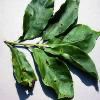Tomato leaf bacterial spot: (31, 46, 74, 99), (45, 46, 100, 81), (37, 1, 80, 43), (9, 47, 36, 91)
